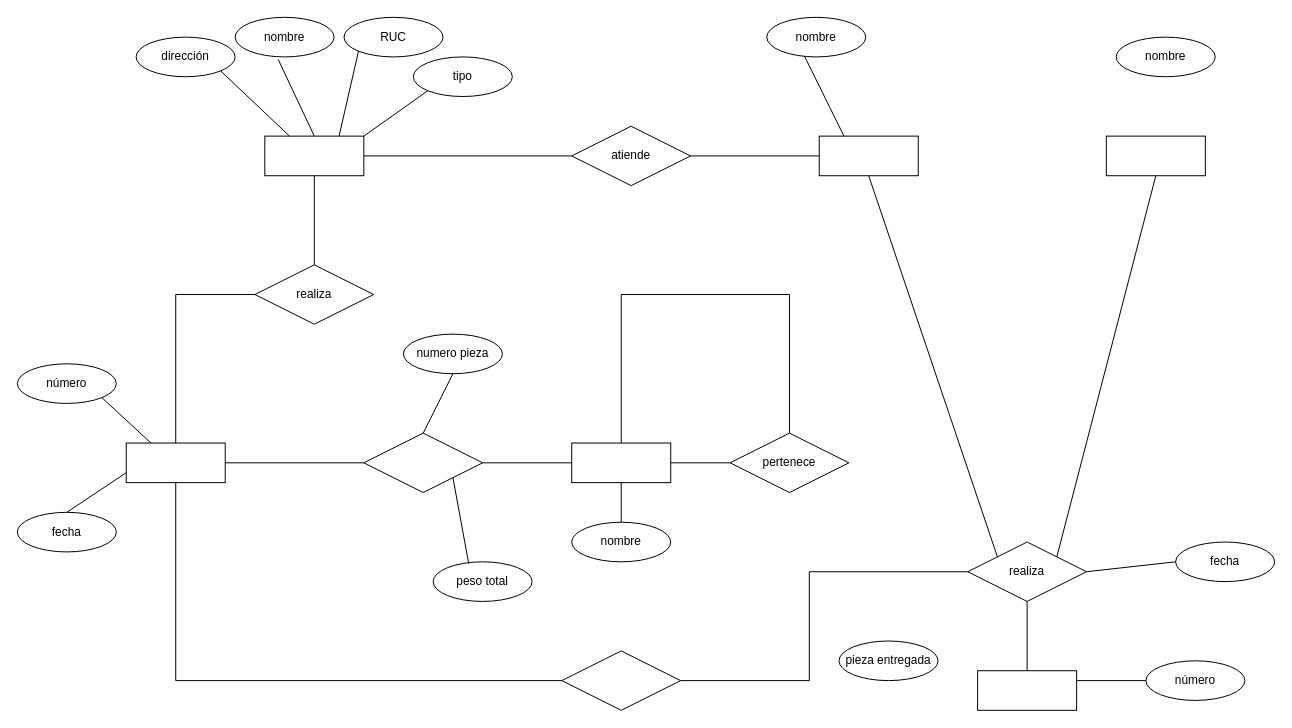
This 1292x728 diagram has some shape labels left out. Here are the shapes that lost their labels. From the top down, the centre of each, then its label:
At (x=314, y=155): "cliente".
At (x=868, y=155): "distribuidores".
At (x=1155, y=155): "receptor autorizado".
At (x=175, y=462): "pedido".
At (x=423, y=462): "contiene".
At (x=621, y=462): "corte".
At (x=621, y=680): "requiere".
At (x=1027, y=690): "entregra".
